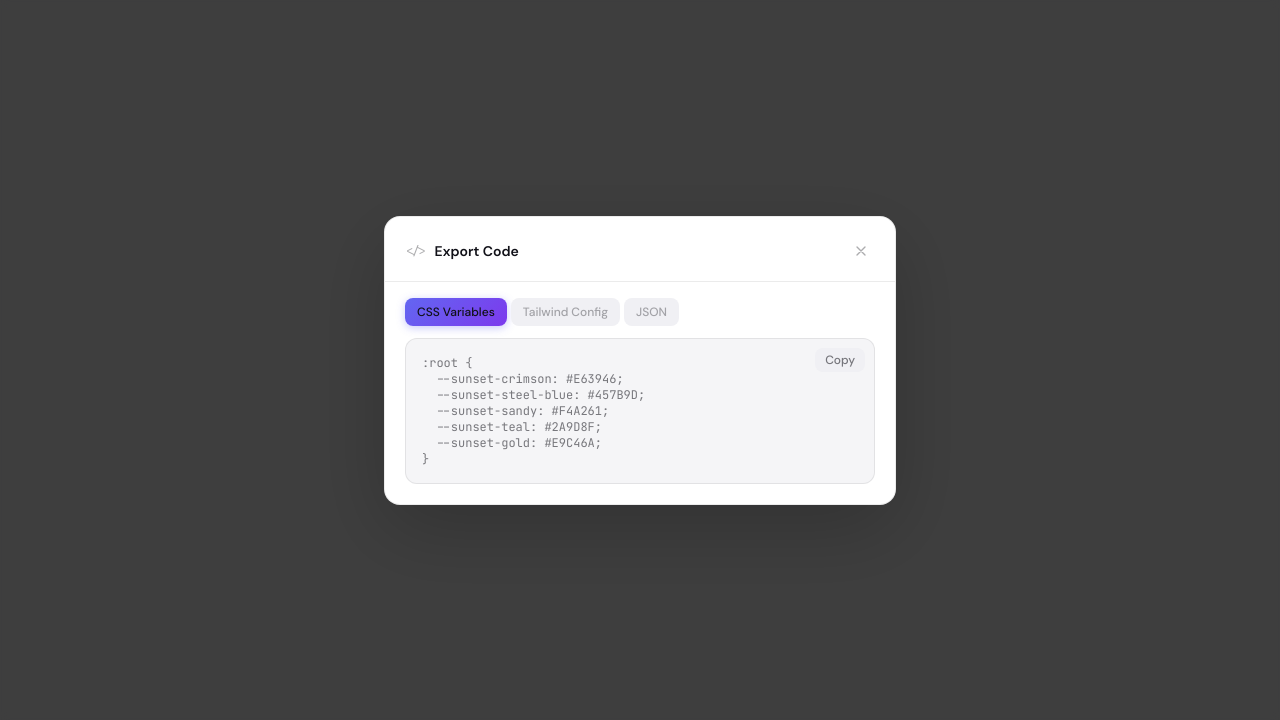
Scenario: ExportPanel copy button (clipboard API) › shows "Copied ✓" feedback after clicking Copy
What coordinates should you click on to do the following:
click the button "Copy"
I would click on:
 (840, 360)
Its box is [815,348,865,372].
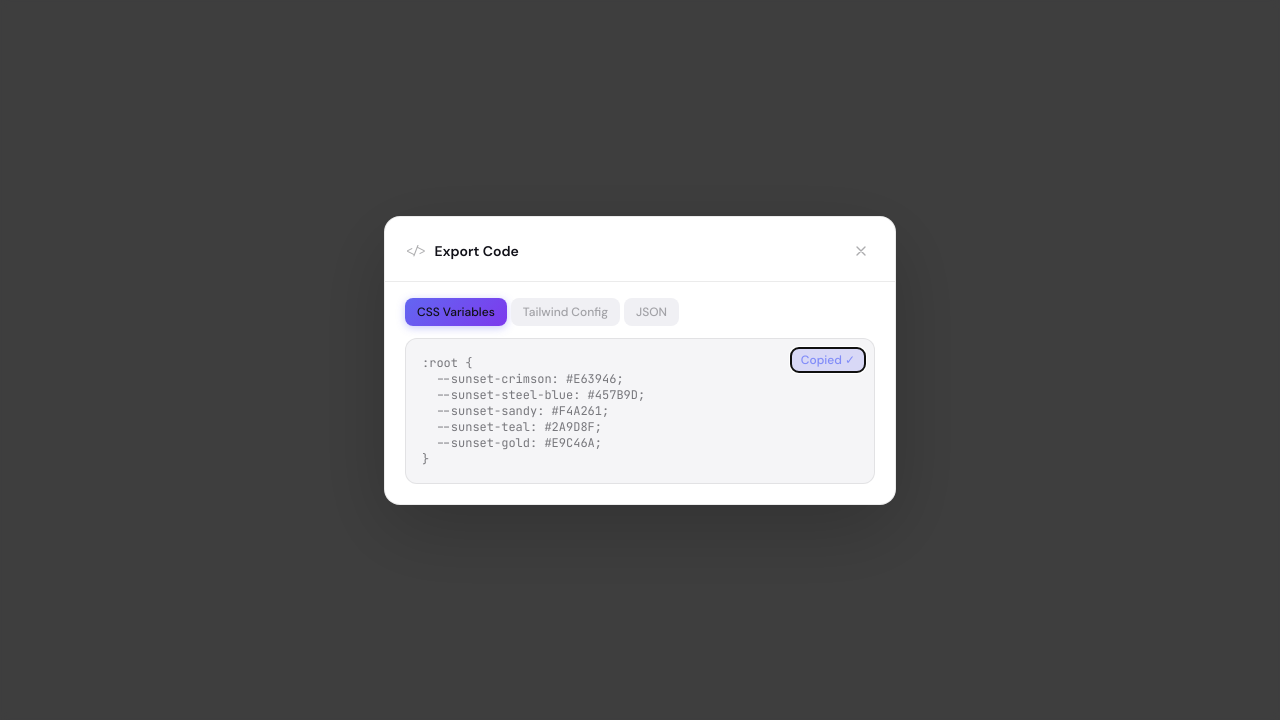
Now the button "Copied ✓" is shown, box [791,348,865,372]
